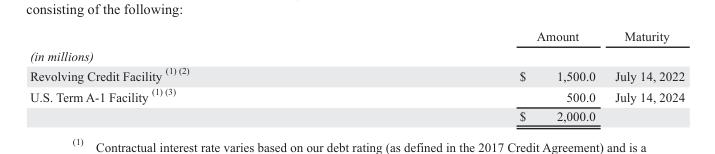table: (29, 28, 684, 123)
table column: (29, 28, 353, 123), (353, 28, 604, 123), (604, 28, 684, 123)
table column header: (29, 28, 684, 45)
table projected row header: (29, 45, 684, 63)
table row: (29, 84, 684, 106), (29, 63, 684, 84), (29, 45, 684, 63), (29, 28, 684, 45), (29, 106, 684, 123)
